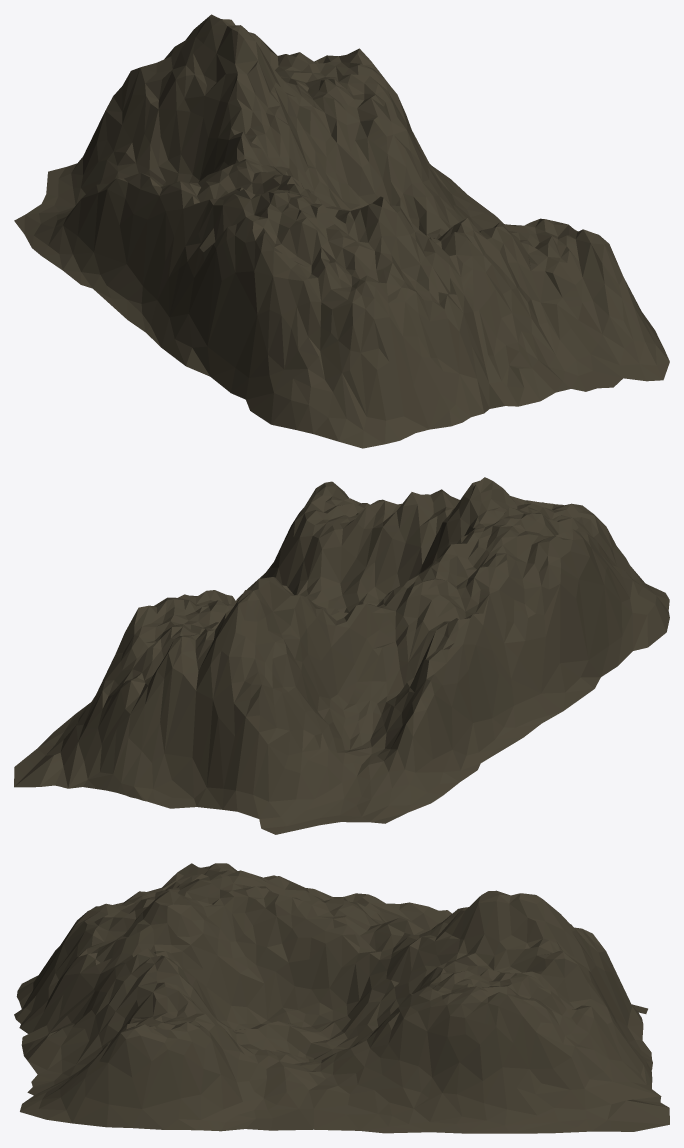
The model's file is mountain_left.dae.
3 renders of one model, top to bottom at view 1: azimuth 30°, elevation 25°; view 2: azimuth 150°, elevation 25°; view 3: azimuth 270°, elevation 25°, orthographic. The views are drawn at different scales.
Parts seen in each view (by area): view 1: Mounting_2; view 2: Mounting_2; view 3: Mounting_2.
Part boxes in pixels (x1,y1,x2,y2): Mounting_2: [14, 14, 669, 448]; Mounting_2: [14, 477, 669, 834]; Mounting_2: [14, 863, 669, 1133].
Size of the model in its own units: 19.7 by 32.87 by 8.97.
Materials: 1 (1 with a texture image).
